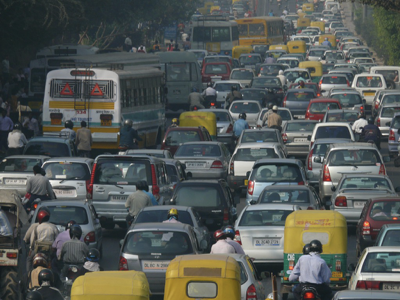licence: (254, 238, 280, 247), (143, 263, 170, 271), (111, 194, 129, 204), (54, 189, 78, 196)
